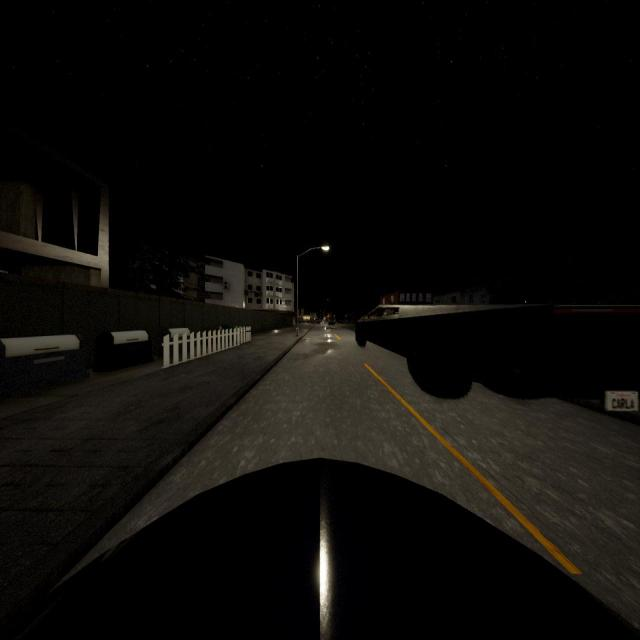Vehicle: (1, 456, 640, 640), (355, 304, 639, 412), (306, 316, 321, 324), (328, 318, 334, 326)
